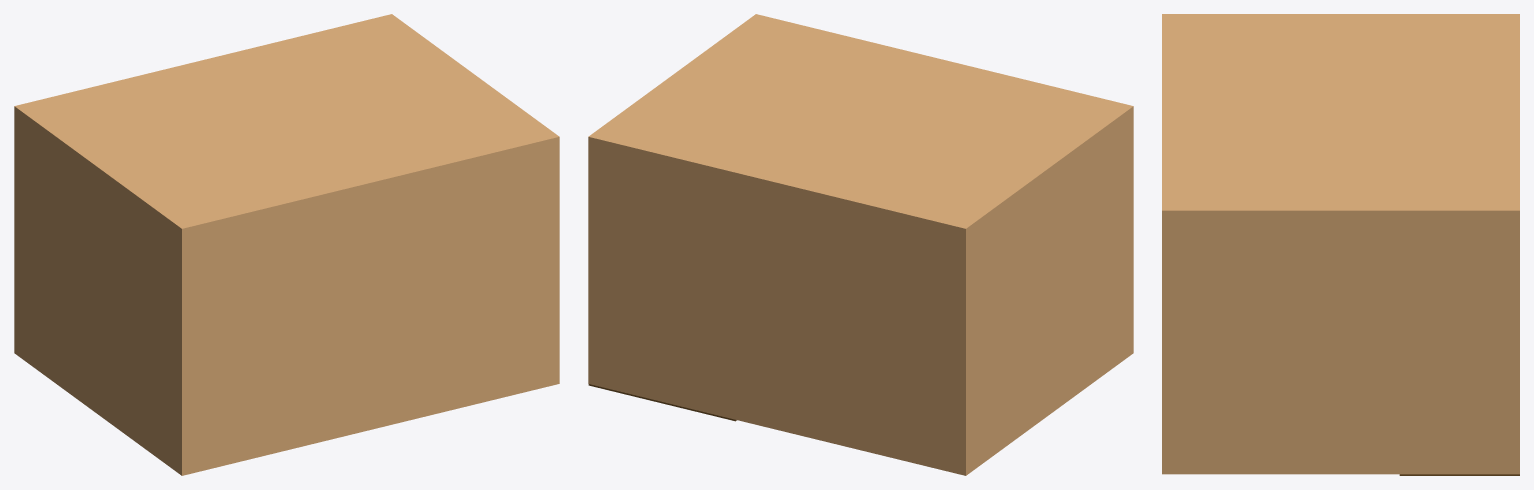
File: BlockingLaboMeubléV3.glb
3 views of the same model, side by side, from view 1: azimuth 30°, elevation 25°; view 2: azimuth 150°, elevation 25°; view 3: azimuth 270°, elevation 25° (orthographic). The views are drawn at different scales.
Visible parts, largest first — view 1: murSansFenetre.001, Plane.004; view 2: murSansFenetre.001, Plane.004; view 3: murSansFenetre.001, Plane.004, Plane.011, Plane.012.
Part boxes in pixels (left/top/right/bottom): murSansFenetre.001: left=14, top=14, right=559, bottom=475; Plane.004: left=31, top=21, right=542, bottom=221; murSansFenetre.001: left=588, top=14, right=1133, bottom=475; Plane.004: left=605, top=21, right=1116, bottom=221; murSansFenetre.001: left=1162, top=14, right=1519, bottom=474; Plane.004: left=1176, top=19, right=1505, bottom=205; Plane.011: left=1176, top=155, right=1276, bottom=159; Plane.012: left=1268, top=159, right=1276, bottom=205.
Bounding box in the file's own units: 4.23 × 2.66 × 3.25.
